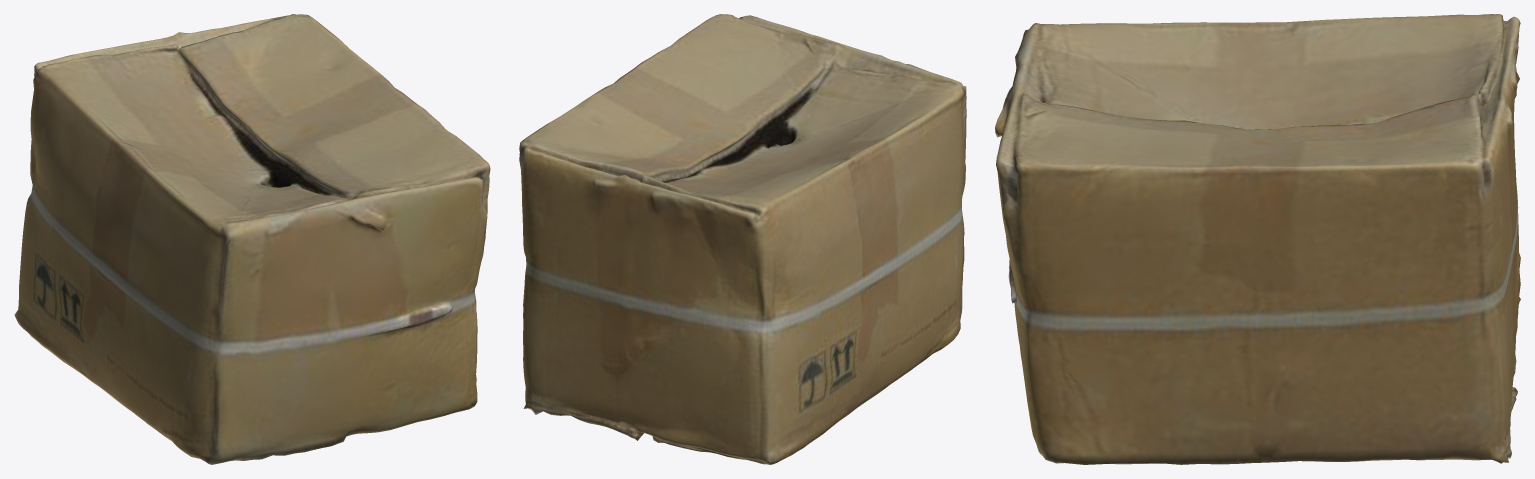
The picture shows the model from 3 angles, left to right: view 1: azimuth 30°, elevation 25°; view 2: azimuth 150°, elevation 25°; view 3: azimuth 270°, elevation 25°; orthographic projection. The views are drawn at different scales.
Parts seen in each view (by area): view 1: box; view 2: box; view 3: box.
Boxes of the visible parts, x1,y1,x2,y2 form: box: (14, 14, 490, 464); box: (519, 14, 966, 464); box: (995, 14, 1520, 464).
Size of the model in its own units: 0.387 by 0.3418 by 0.5159.
Materials: 1 (1 with a texture image).
